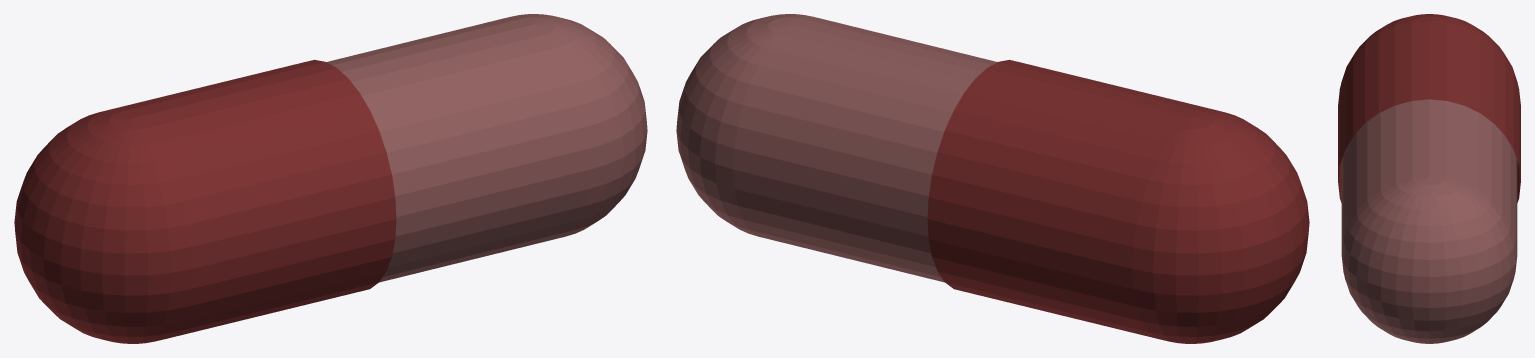
3 views of the same model, side by side, from view 1: azimuth 30°, elevation 25°; view 2: azimuth 150°, elevation 25°; view 3: azimuth 270°, elevation 25° (orthographic). The views are drawn at different scales.
Visible parts, largest first — view 1: 球體; view 2: 球體; view 3: 球體.
Boxes of the visible parts, <box> form: 球體: <box>14,14,647,343</box>; 球體: <box>676,14,1309,343</box>; 球體: <box>1338,14,1520,343</box>.
Size of the model in its own units: 2.93 by 1 by 1.
